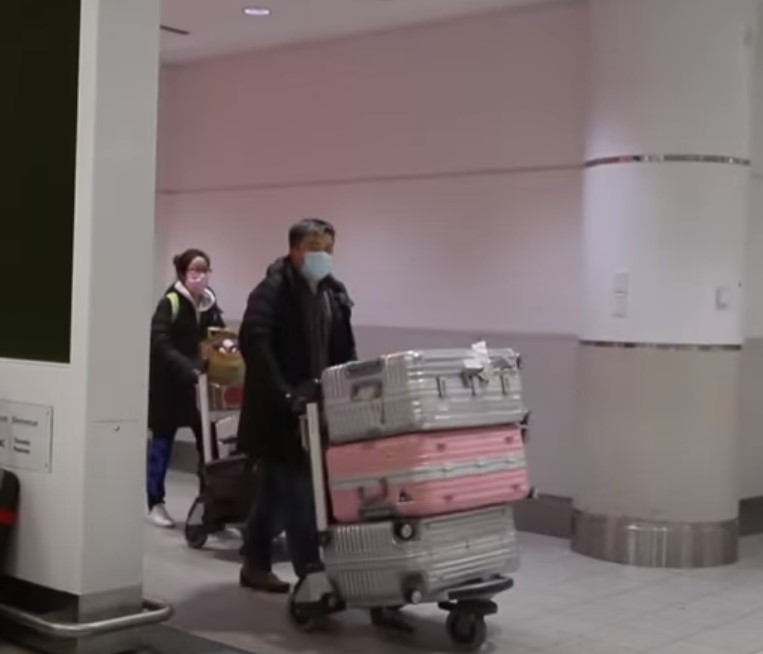face_with_mask: (290, 220, 338, 289), (182, 254, 213, 296)
